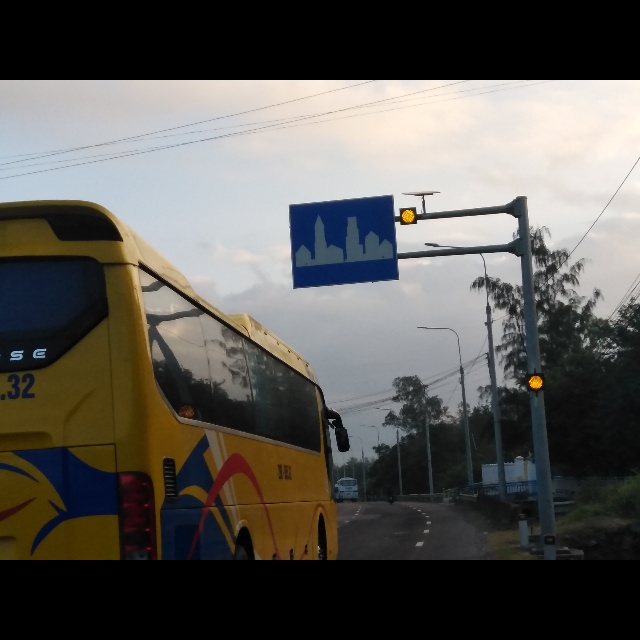Khu đông dân cư: (285, 191, 401, 291)
